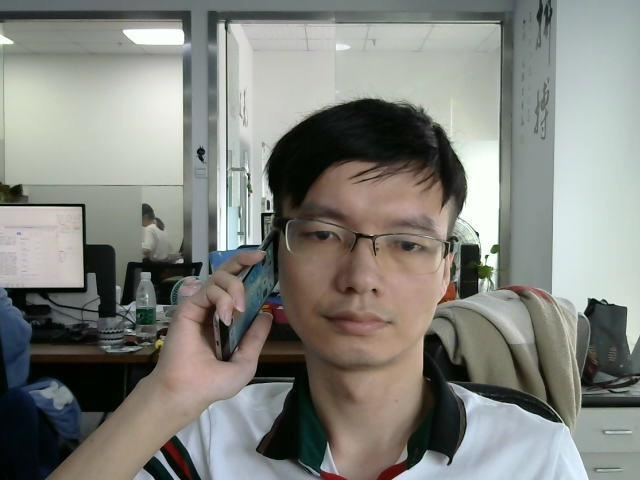hand: (180, 244, 274, 376)
